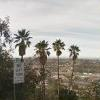Palm tree: (34, 33, 80, 92)
